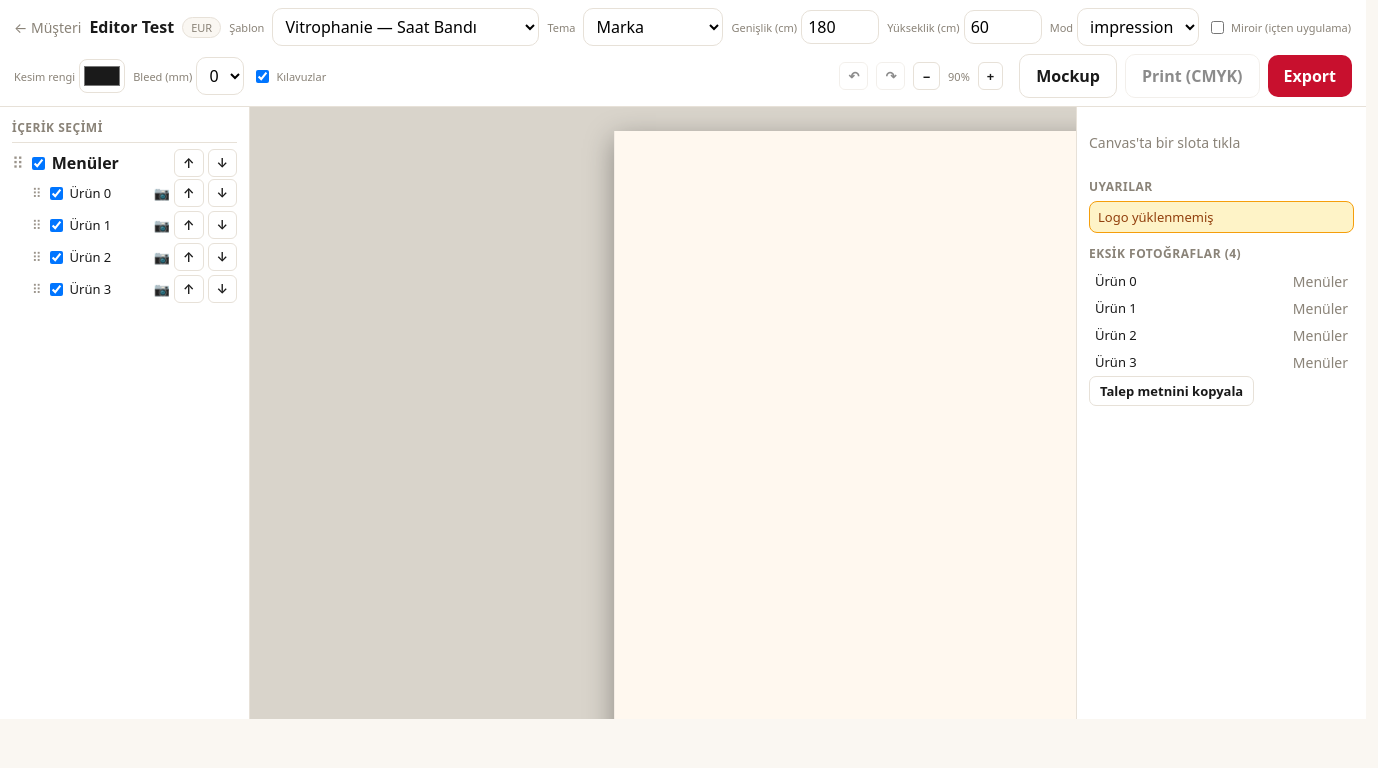
Scenario: EditorPage — zincir 2: save 400 → saveError SEBEBİYLE görünür, başarı temizler › 2 sn debounce → PUT; reject → 'Kayıt hatası!' + gerekçe; sonraki başarılı kayıt hatayı siler
Replace the text in the number field next to "Genişlik (cm)" with "250": (840, 27) [801,10,879,44]
Wait 2000 ms
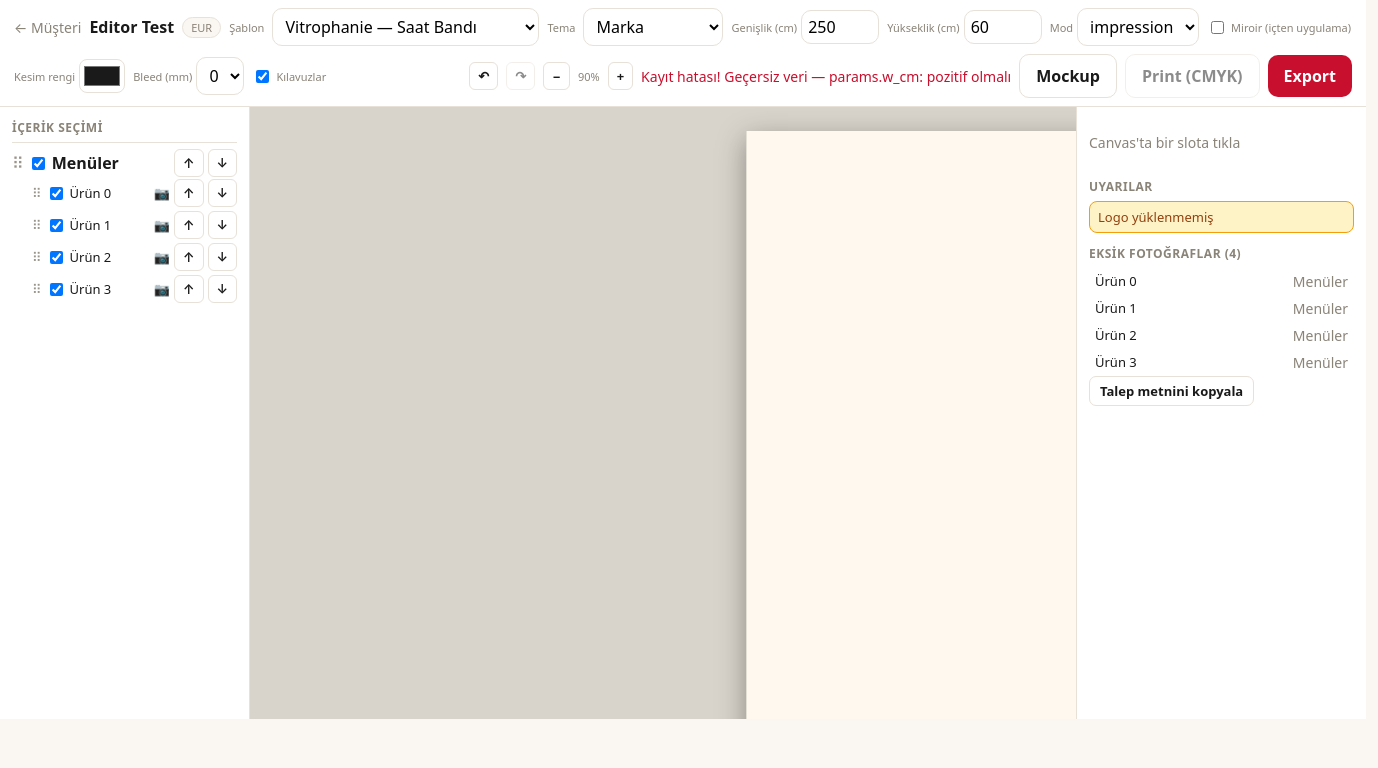
Replace the text in the number field next to "Genişlik (cm)" with "260": (840, 27) [801,10,879,44]
Wait 2000 ms
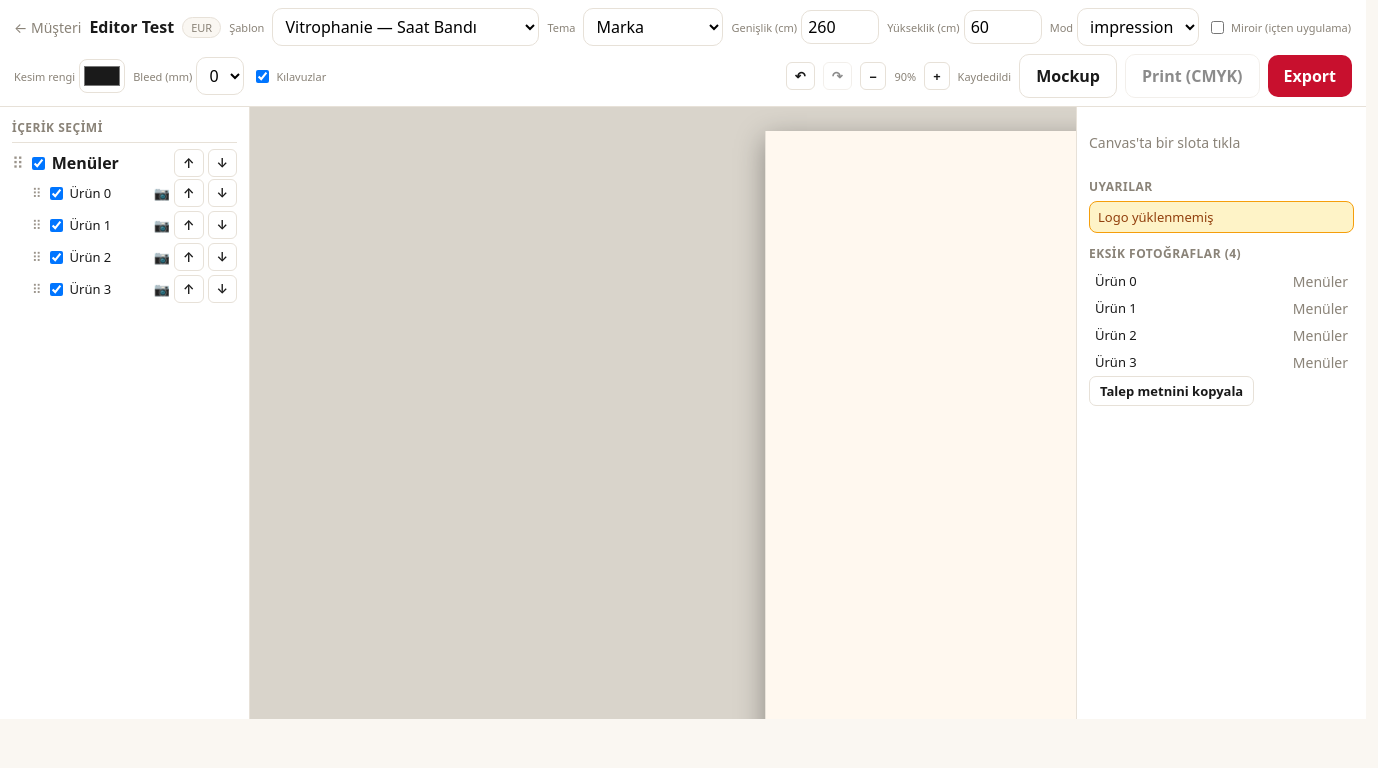
Check: the text "Kaydedildi" is shown, box [958,68,1011,84]
Check: the text "Kayıt hatası!" is gone
